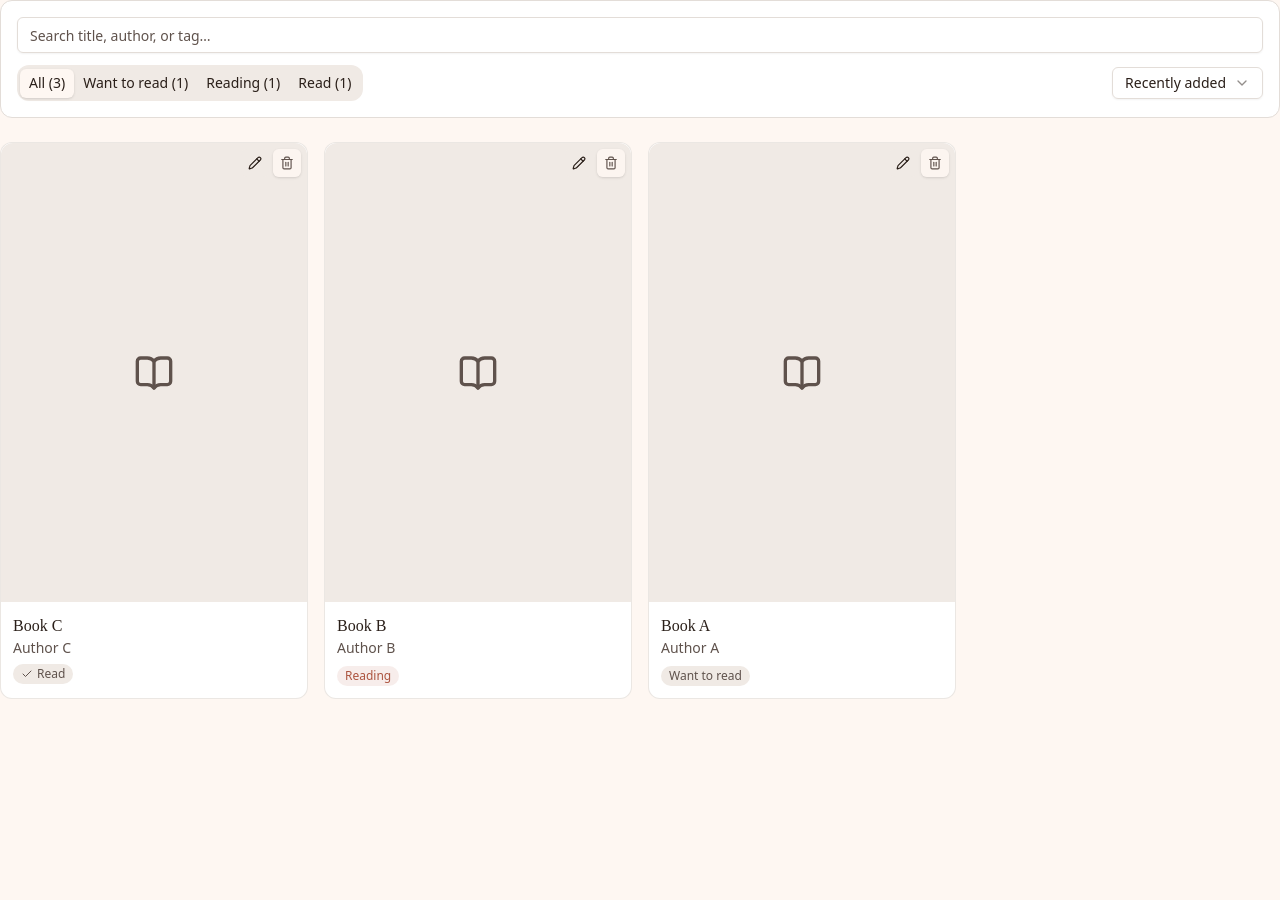
Test case: ShelfList › delete dialog wiring (spec 004) › opens the delete dialog when a card's trash button is clicked
What coordinates should you click on to do the following:
click the button with test id "book-card-delete"
I would click on:
 (287, 163)
Its box is [273, 149, 301, 177].
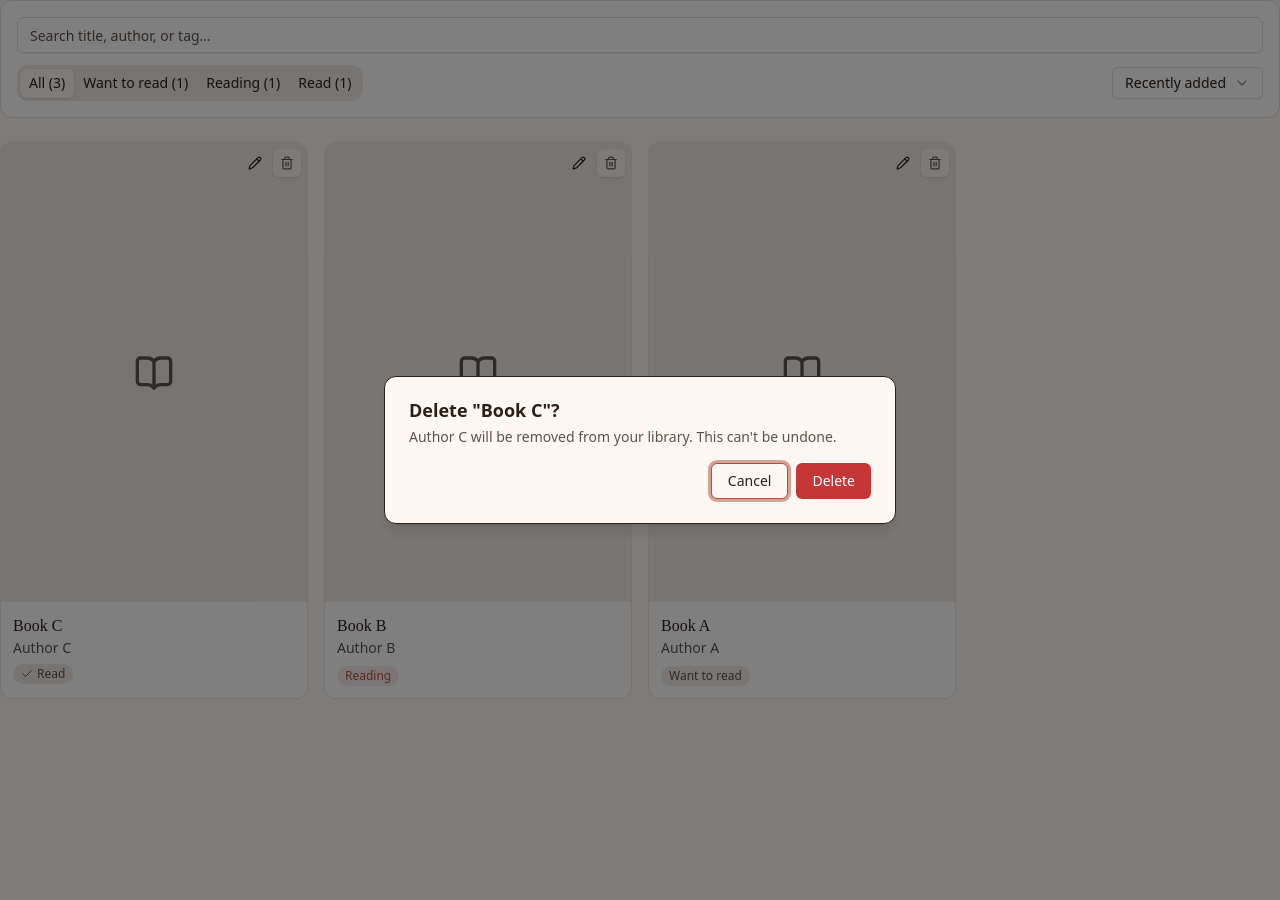
Result: the dialog is shown at [384, 376, 896, 524]
Result: the heading "Delete \"Book C\"?" is shown at [409, 398, 560, 422]
Result: the text "Author C" is shown at [409, 427, 467, 446]
